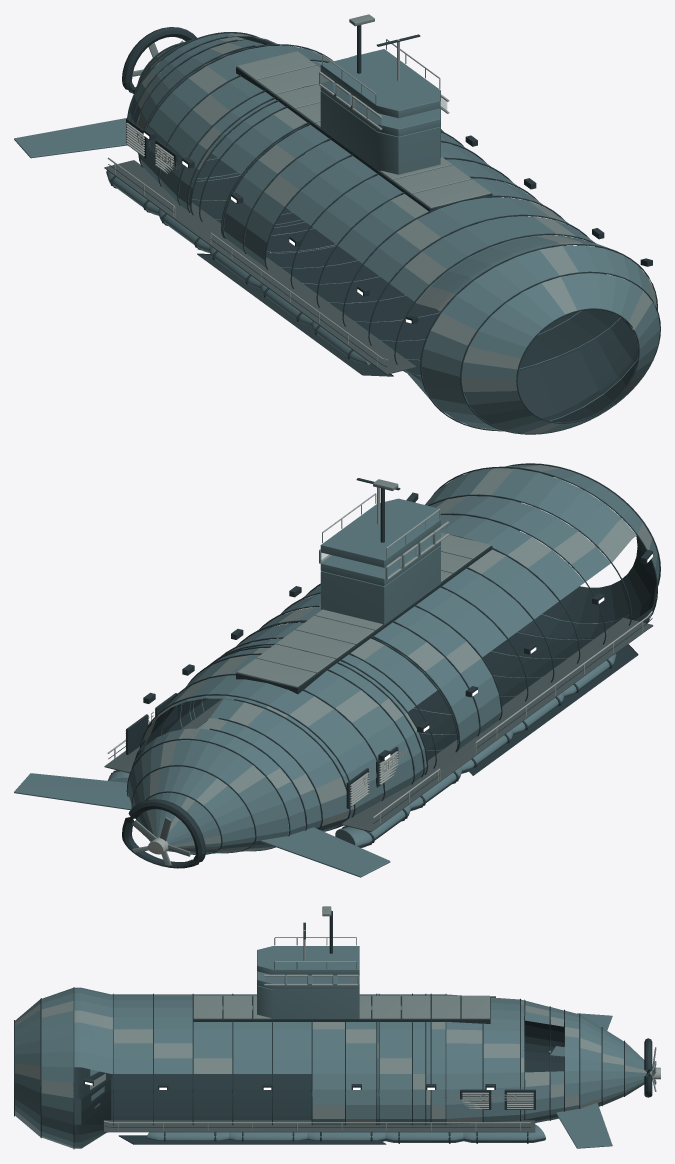
The model's file is Nereid_Exterior.fbx.
The picture shows the model from 3 angles, top to bottom: view 1: azimuth 30°, elevation 25°; view 2: azimuth 150°, elevation 25°; view 3: azimuth 270°, elevation 25°; orthographic projection. The views are drawn at different scales.
Parts seen in each view (by area): view 1: Exterior_Nereid_Hull, Exterior_Nereid_Dark, Exterior_Nereid_Steel, Exterior_Nereid_Grate, Exterior_Nereid_Trim; view 2: Exterior_Nereid_Hull, Exterior_Nereid_Dark, Exterior_Nereid_Steel, Exterior_Nereid_Grate, Exterior_Nereid_Trim; view 3: Exterior_Nereid_Hull, Exterior_Nereid_Dark, Exterior_Nereid_Steel, Exterior_Nereid_Grate, Exterior_Nereid_Trim, Exterior_Nereid_Window.
Part boxes in pixels (x1,y1,x2,y2): Exterior_Nereid_Hull: [14, 33, 660, 433]; Exterior_Nereid_Dark: [108, 25, 660, 434]; Exterior_Nereid_Steel: [132, 14, 656, 433]; Exterior_Nereid_Grate: [104, 160, 606, 374]; Exterior_Nereid_Trim: [107, 39, 569, 366]; Exterior_Nereid_Hull: [14, 464, 659, 877]; Exterior_Nereid_Dark: [108, 463, 660, 868]; Exterior_Nereid_Steel: [127, 465, 659, 865]; Exterior_Nereid_Grate: [104, 617, 653, 831]; Exterior_Nereid_Trim: [107, 487, 652, 854]; Exterior_Nereid_Hull: [15, 946, 652, 1148]; Exterior_Nereid_Dark: [14, 910, 652, 1149]; Exterior_Nereid_Steel: [15, 906, 656, 1148]; Exterior_Nereid_Grate: [103, 1120, 535, 1132]; Exterior_Nereid_Trim: [103, 930, 660, 1131]; Exterior_Nereid_Window: [265, 977, 356, 983].
Size of the model in its own units: 21.39 by 16.46 by 43.48.
